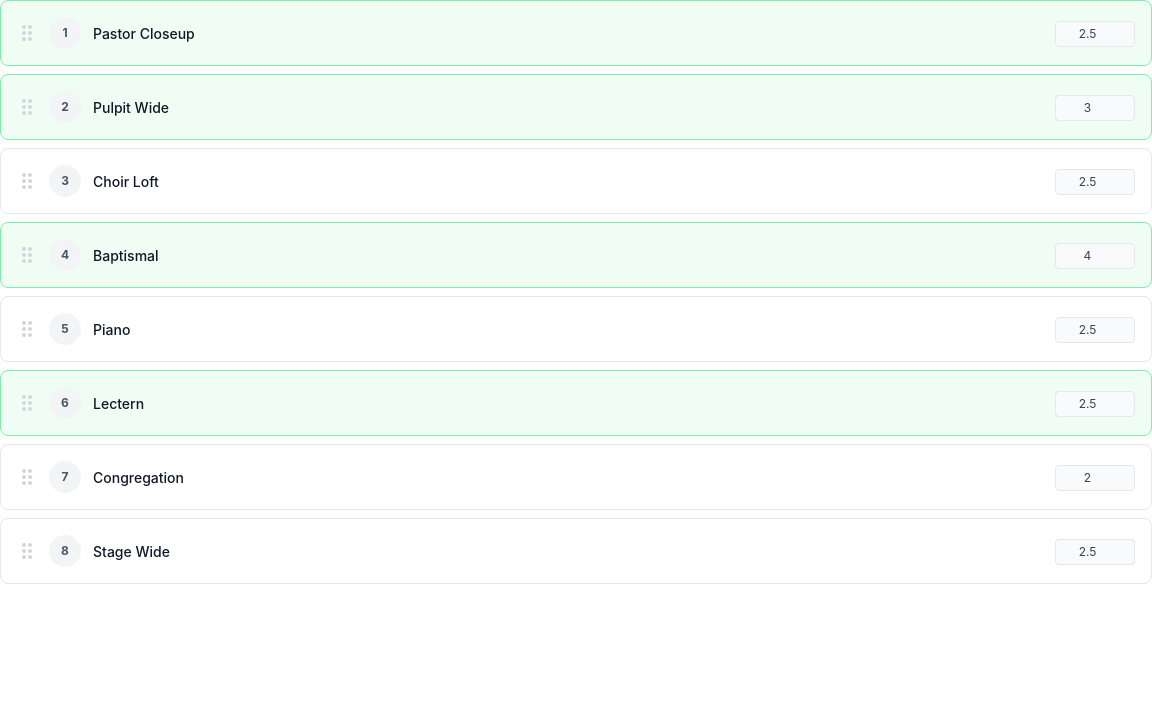
it: PresetGrid › clicking name enters inline edit mode
// Click the name to enter edit mode
Click the button "Pastor Closeup" at (144, 34), box 93,24 -> 1043,44
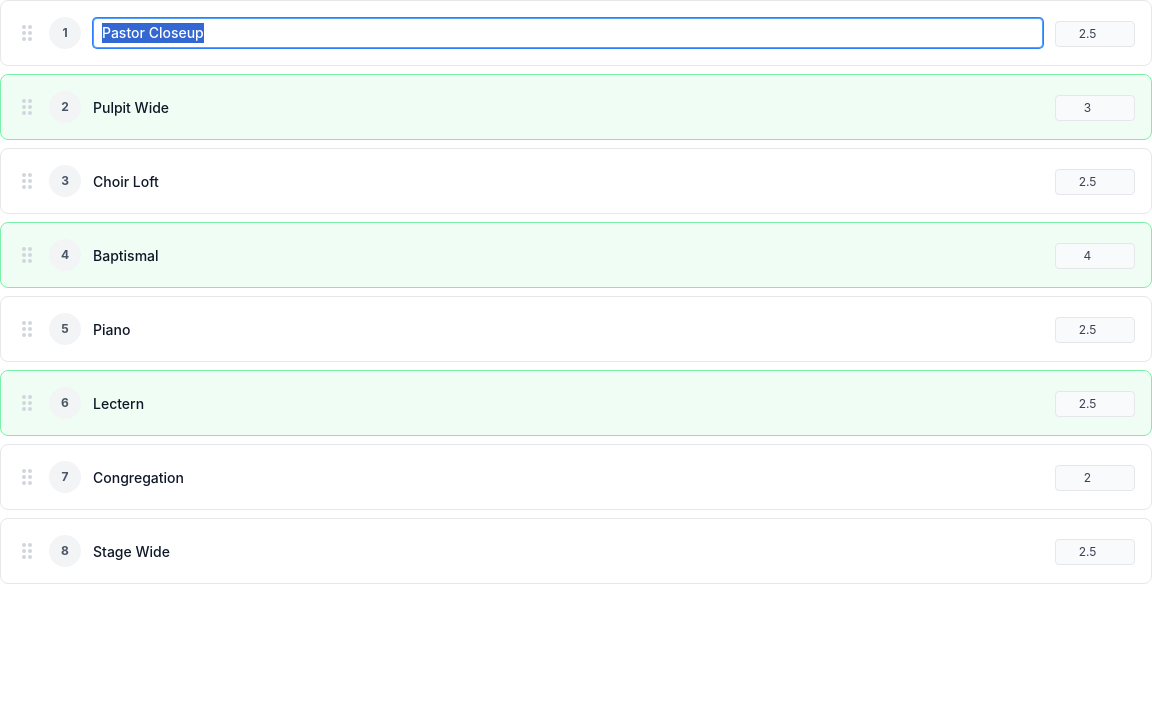
Check: the field showing "Pastor Closeup" is shown, box 93,18 -> 1043,48
